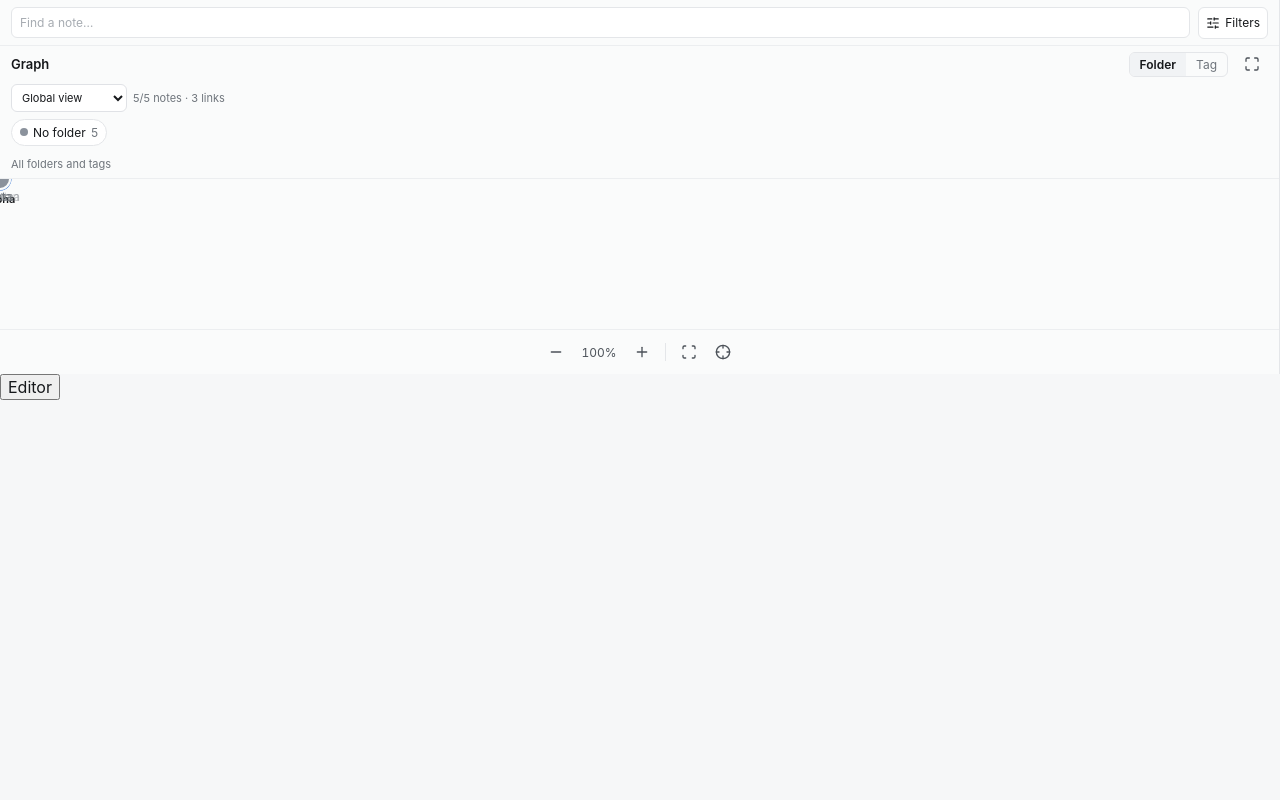
Test: Graph exploration controls › explains empty filtered views and restores all notes
Later steps or results of the test are not shown.
Click the button "Tag" at (1206, 64), box [1186,52,1227,76]
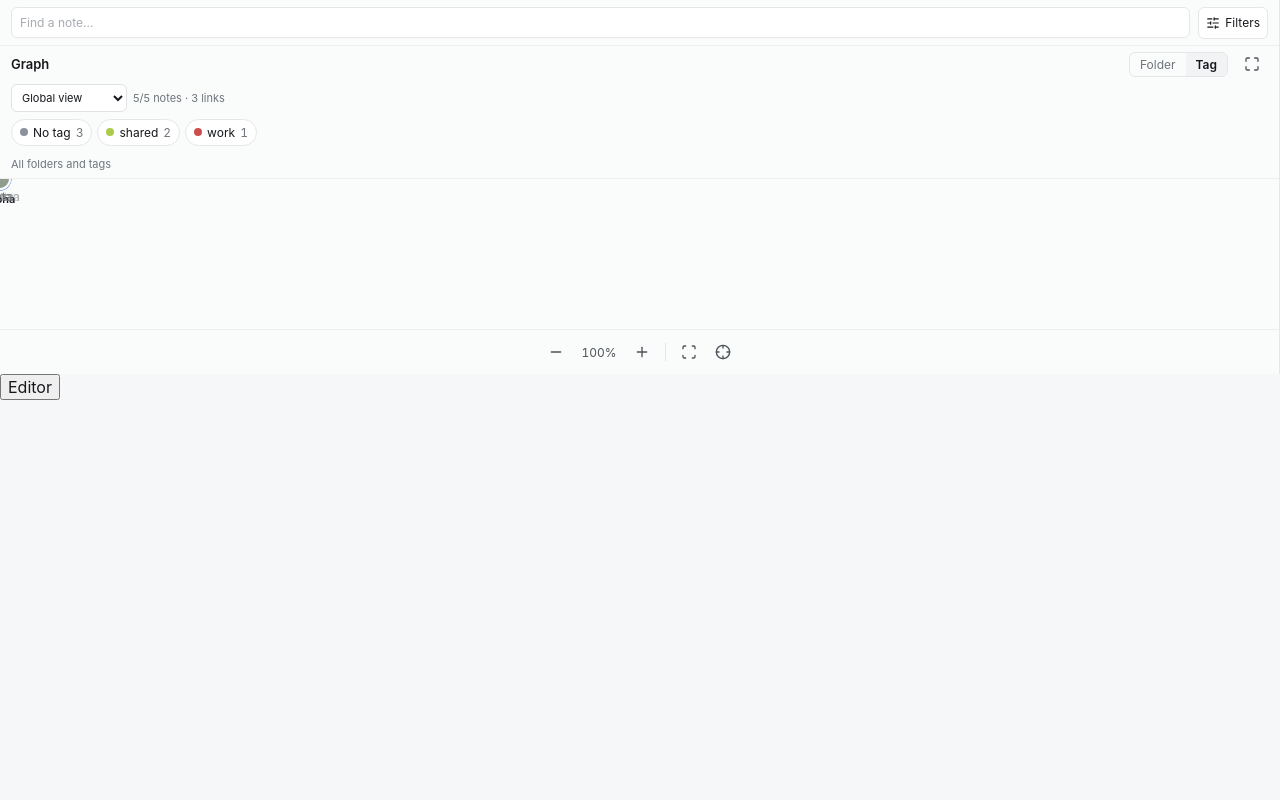
Click the button "work 1" at (221, 132), box [185,118,257,146]
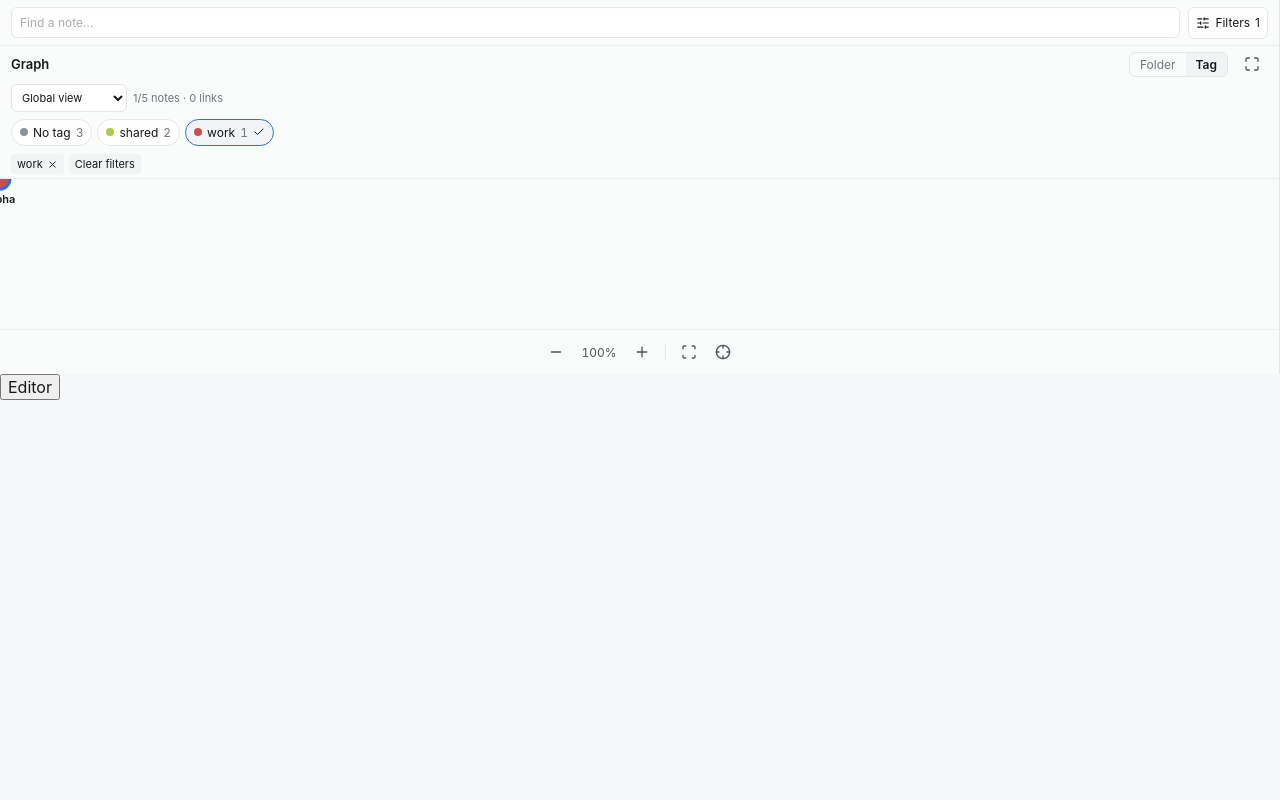
Click the button "Filters 1" at (1228, 22), box [1188,6,1268,38]
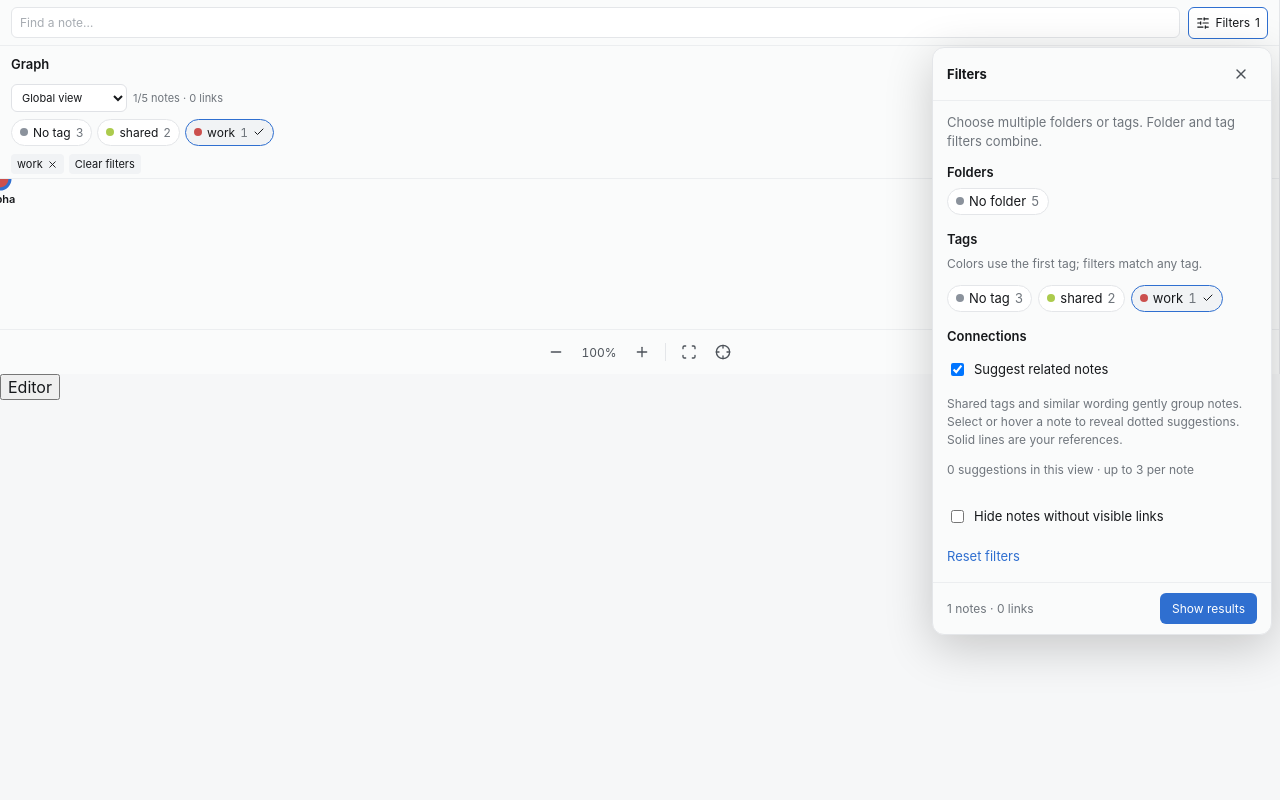
Click the checkbox named "Hide notes without visible links" at (958, 516), box [951,510,964,522]
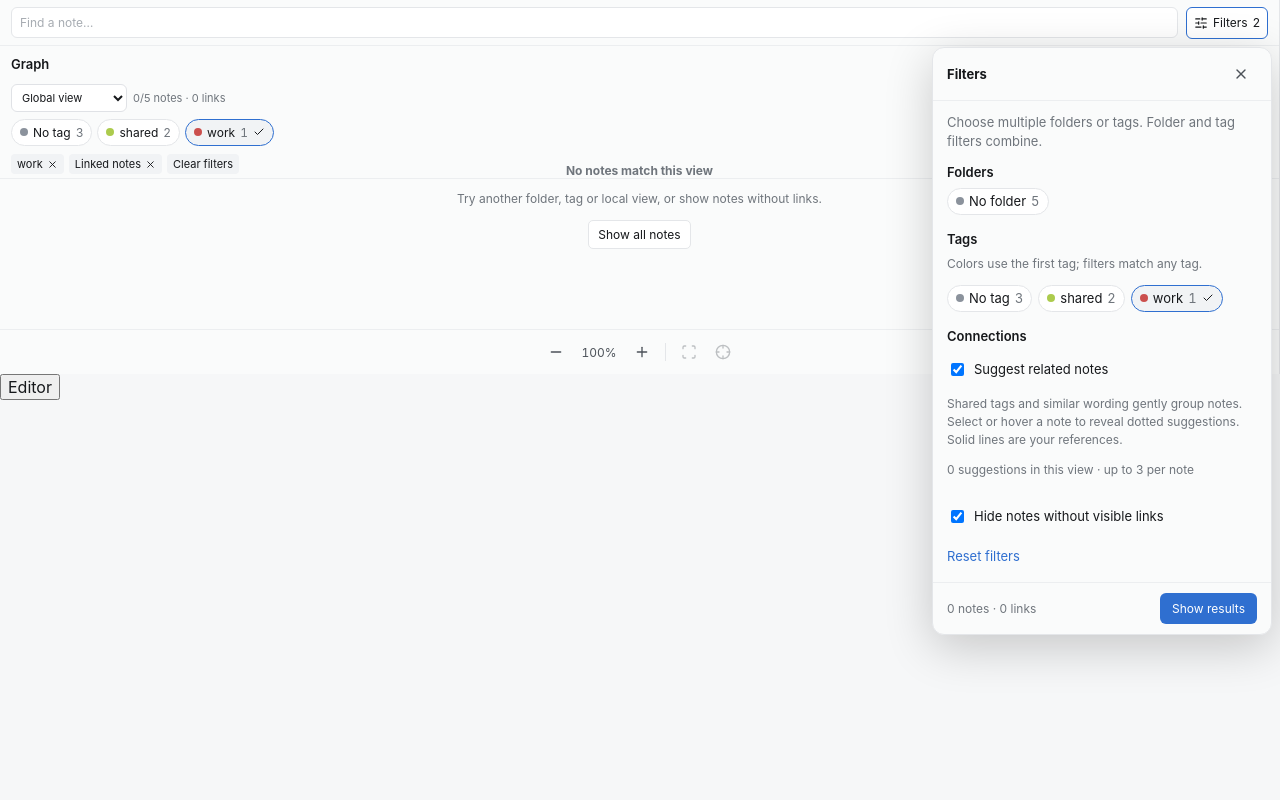
Click the button named "Close graph panel" at (1241, 74), box [1225,58,1257,90]
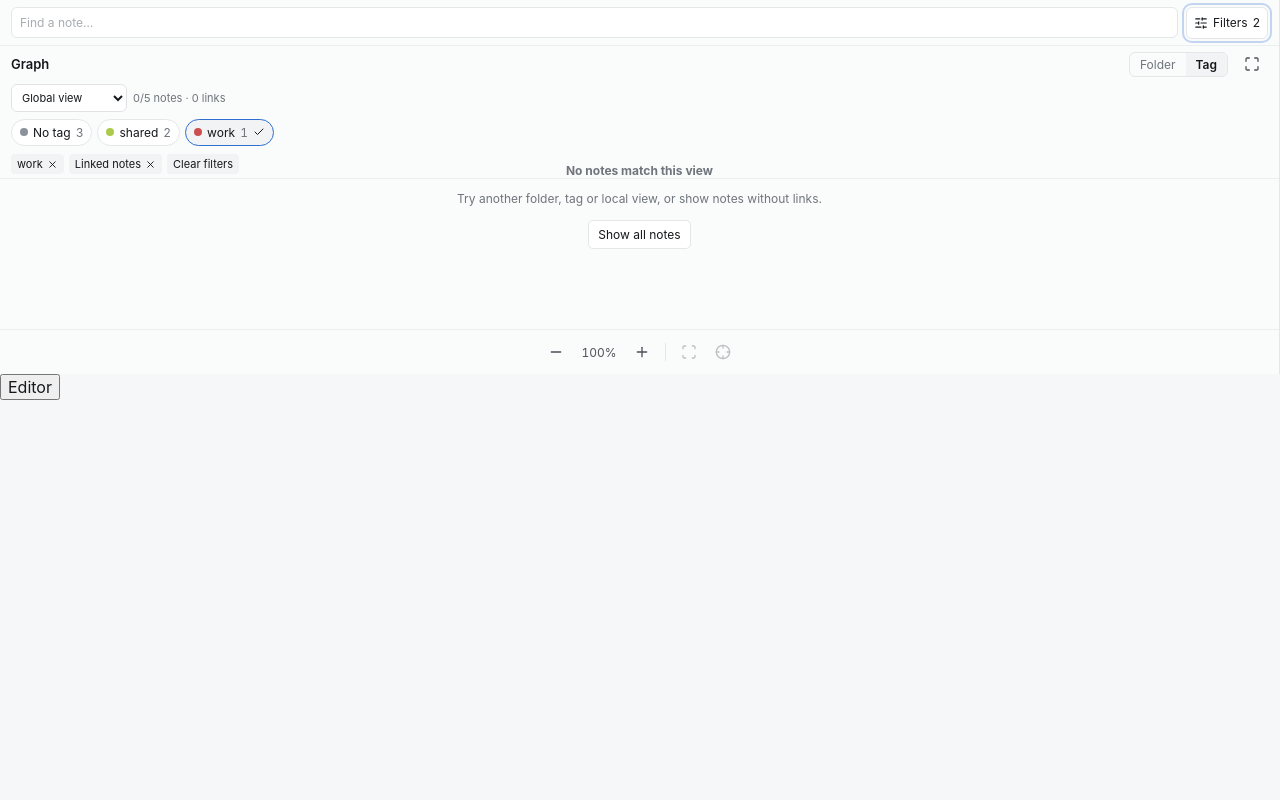
Now the message with class "graph-empty" shows "No notes match", box [566,163,713,178]
